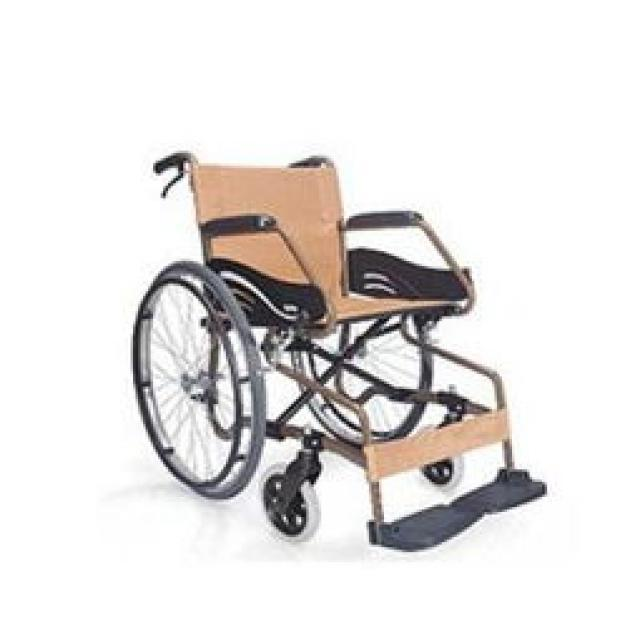wheelchair: (125, 140, 548, 562)
